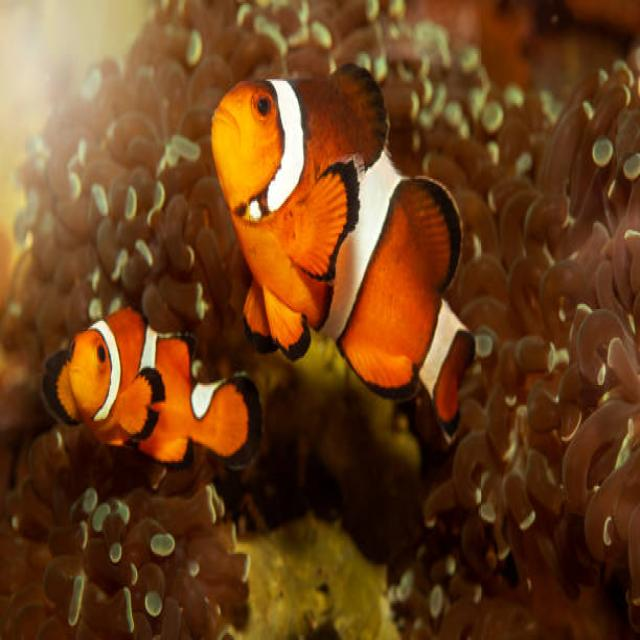ClownFish: (206, 54, 475, 429), (39, 310, 261, 480)
